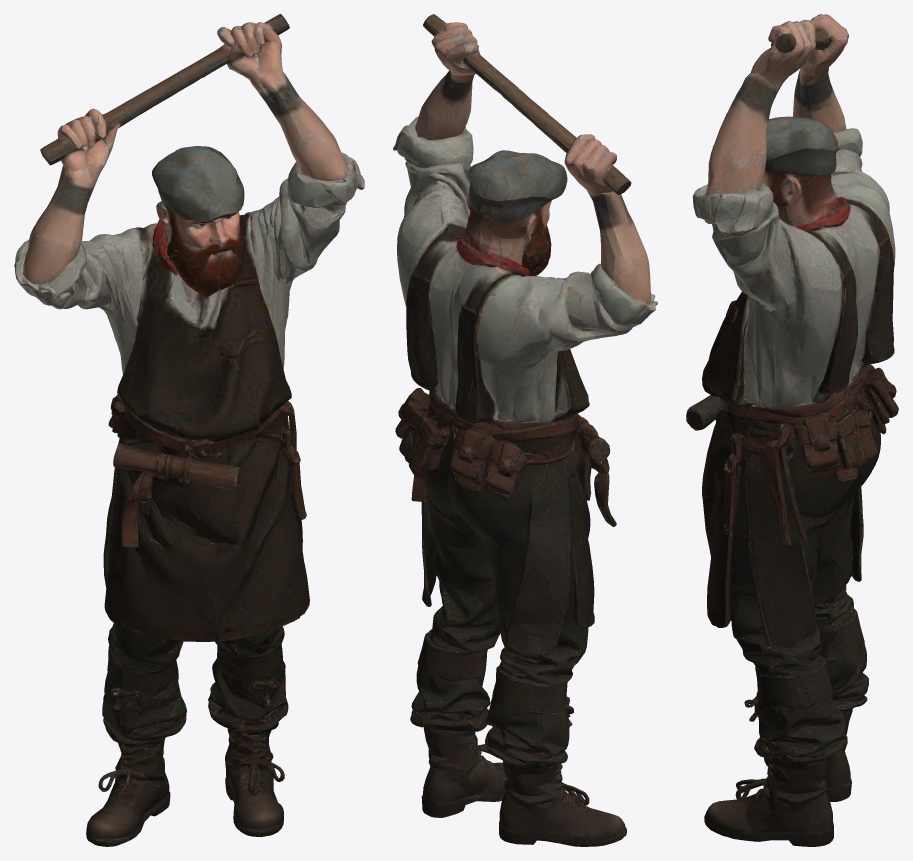
Rendered from smith.glb.
The picture shows the model from 3 angles, left to right: view 1: azimuth 30°, elevation 25°; view 2: azimuth 150°, elevation 25°; view 3: azimuth 270°, elevation 25°; orthographic projection. The views are drawn at different scales.
Parts seen in each view (by area): view 1: mesh_node; view 2: mesh_node; view 3: mesh_node.
Part boxes in pixels (x1=…): mesh_node: x1=14, y1=14, x2=364, y2=846; mesh_node: x1=393, y1=14, x2=657, y2=846; mesh_node: x1=686, y1=14, x2=898, y2=846.
Size of the model in its own units: 0.7648 by 1.9 by 0.4491.
1 material, 1 textured.
